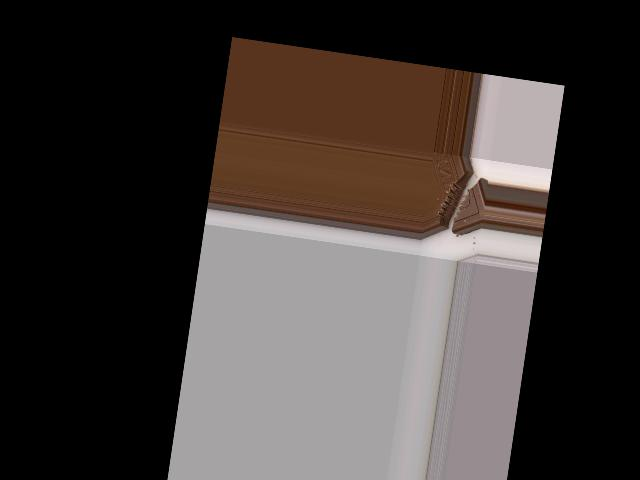chocolate: (422, 152, 491, 249)
